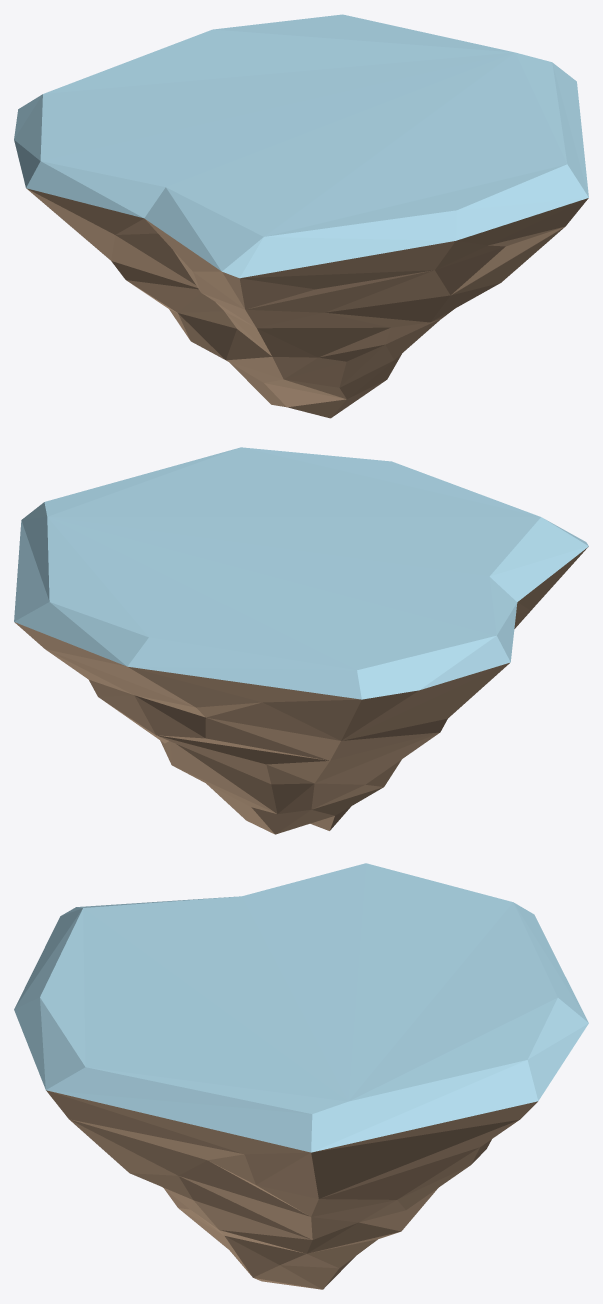
File: island2_Blue.fbx
3 views of the same model, one above another, from view 1: azimuth 30°, elevation 25°; view 2: azimuth 150°, elevation 25°; view 3: azimuth 270°, elevation 25° (orthographic). The views are drawn at different scales.
Visible parts, largest first — view 1: island2; view 2: island2; view 3: island2.
Part boxes in pixels (x1,y1,x2,y2): island2: (14, 14, 588, 418); island2: (14, 447, 588, 834); island2: (14, 863, 588, 1289).
Size of the model in its own units: 32.63 by 16.68 by 29.4.
